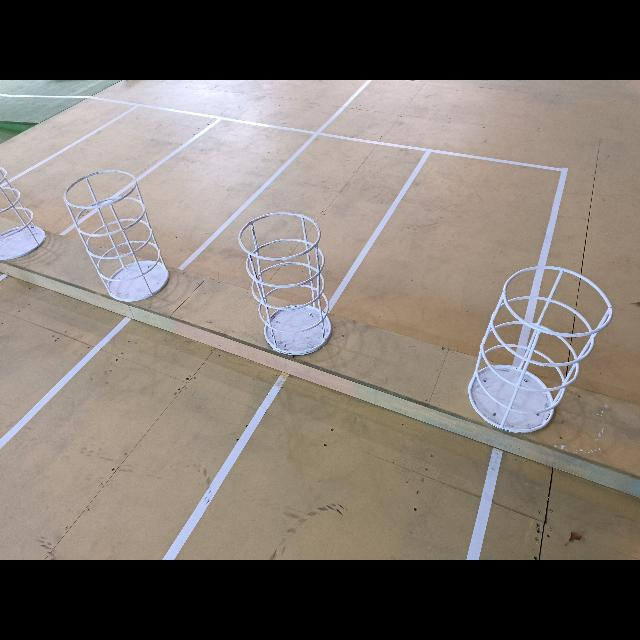S: (464, 264, 616, 436), (59, 168, 172, 302), (235, 209, 334, 357), (1, 162, 48, 257)
